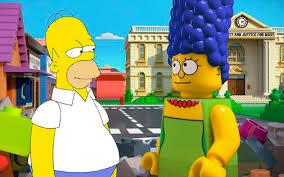Homer: (30, 11, 126, 177)
Marge: (162, 1, 241, 177)
